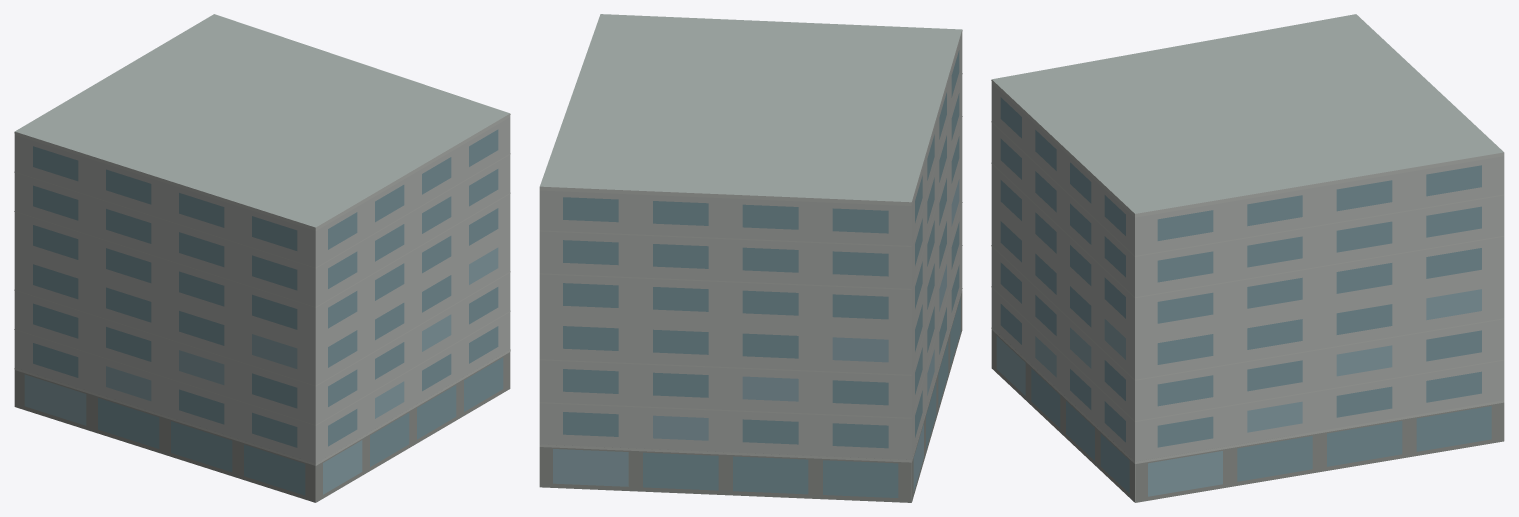
Rendered from survey-upis-32788268.glb.
3 renders of one model, left to right at view 1: azimuth 30°, elevation 25°; view 2: azimuth 150°, elevation 25°; view 3: azimuth 270°, elevation 25°, orthographic. The views are drawn at different scales.
Parts seen in each view (by area): view 1: survey-upis-32788268.tmp; view 2: survey-upis-32788268.tmp; view 3: survey-upis-32788268.tmp.
Part boxes in pixels (x1,y1,x2,y2): survey-upis-32788268.tmp: (14,14,510,502); survey-upis-32788268.tmp: (539,14,962,502); survey-upis-32788268.tmp: (991,14,1504,502).
Size of the model in its own units: 28.22 by 19 by 30.58.
